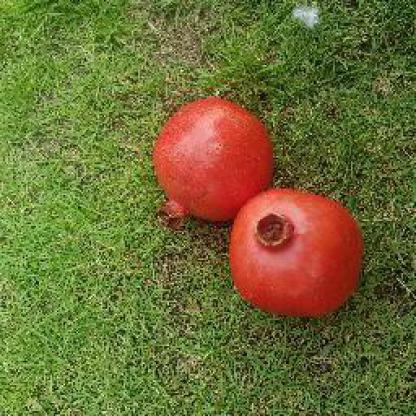pomegranate: (228, 188, 364, 320), (152, 97, 276, 232)
